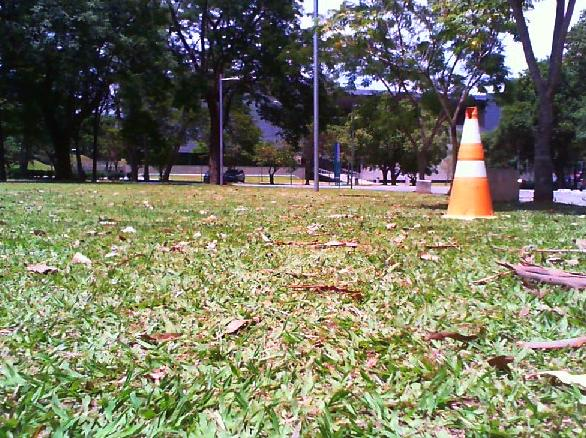0 cone: (444, 107, 496, 218)
